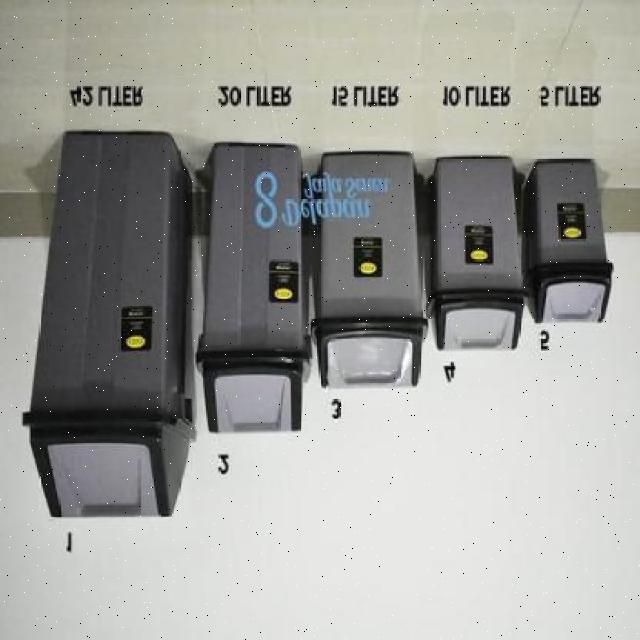garbage container: (22, 117, 196, 530), (197, 139, 314, 441), (311, 136, 427, 402), (427, 149, 527, 357), (526, 148, 620, 330)
